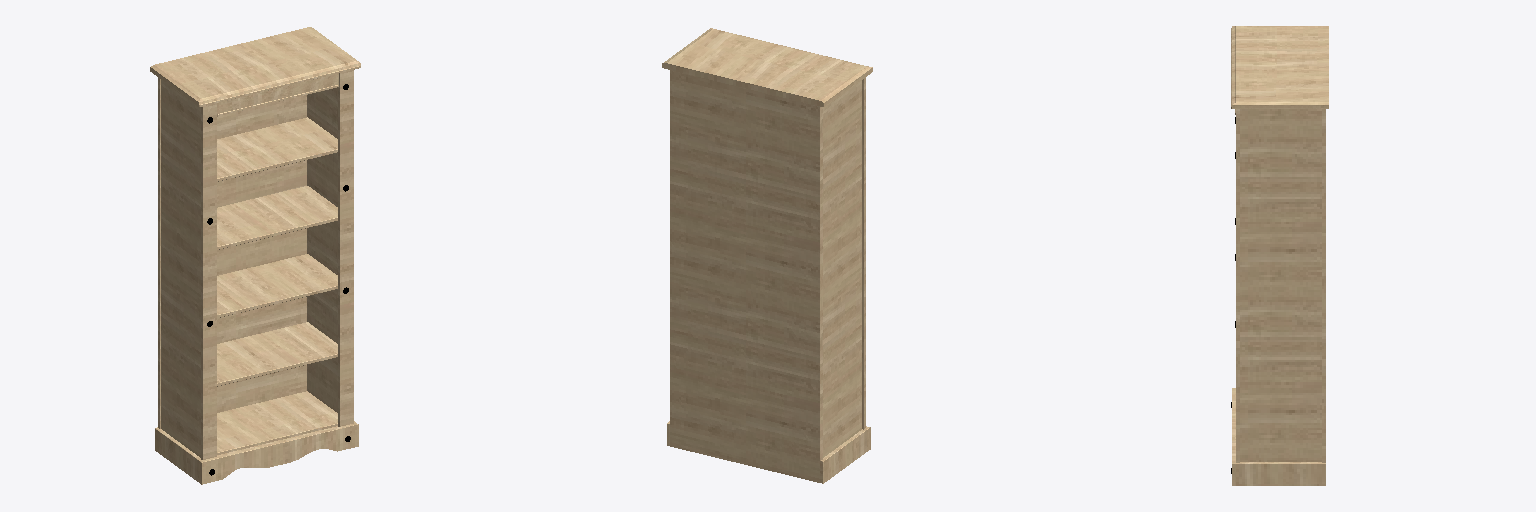
The picture shows the model from 3 angles: view 1: azimuth 30°, elevation 25°; view 2: azimuth 150°, elevation 25°; view 3: azimuth 270°, elevation 25°; orthographic projection.
Parts seen in each view (by area): view 1: Corona_Seconique_Tall_Bookcase.003_Cube.021; view 2: Corona_Seconique_Tall_Bookcase.003_Cube.021; view 3: Corona_Seconique_Tall_Bookcase.003_Cube.021.
Part boxes in pixels (left/top/right/bottom): Corona_Seconique_Tall_Bookcase.003_Cube.021: left=150, top=27, right=360, bottom=484; Corona_Seconique_Tall_Bookcase.003_Cube.021: left=662, top=28, right=872, bottom=483; Corona_Seconique_Tall_Bookcase.003_Cube.021: left=1231, top=26, right=1328, bottom=485.
Bounding box in the file's own units: 40.35 × 91.45 × 21.25.
3 materials, 1 textured.